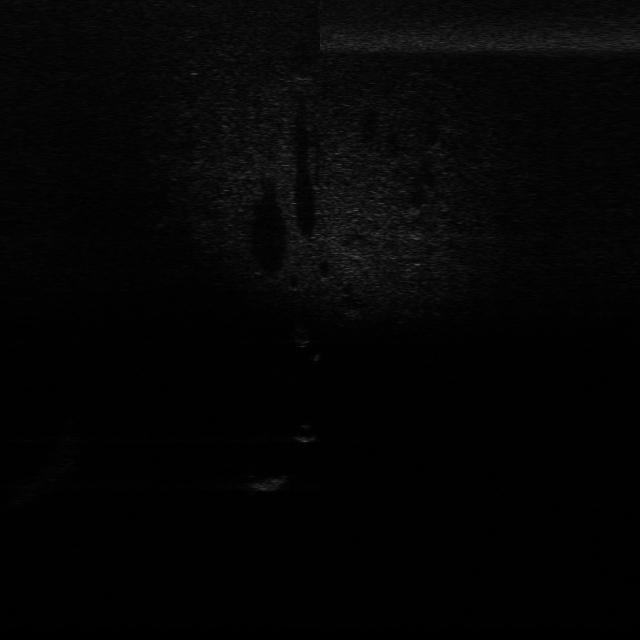ball: (292, 416, 323, 444)
human body: (291, 320, 328, 362)
square cage: (243, 467, 302, 494)
